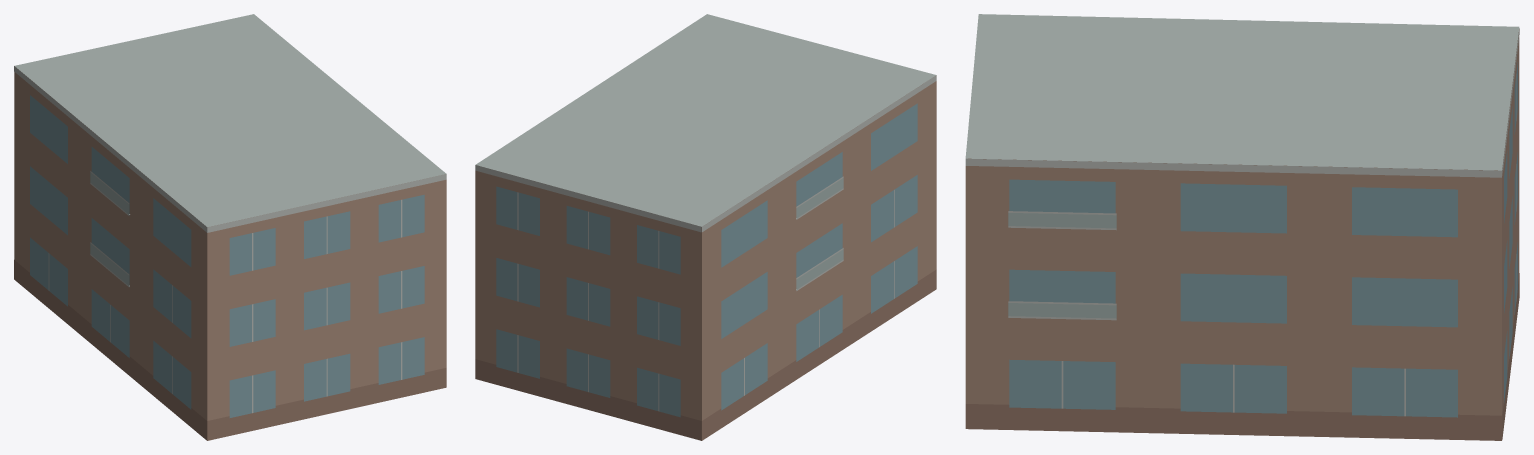
Rendered from survey-upis-32710039.glb.
3 views of the same model, side by side, from view 1: azimuth 30°, elevation 25°; view 2: azimuth 150°, elevation 25°; view 3: azimuth 270°, elevation 25° (orthographic). The views are drawn at different scales.
Parts seen in each view (by area): view 1: survey-upis-32710039.tmp; view 2: survey-upis-32710039.tmp; view 3: survey-upis-32710039.tmp.
Part boxes in pixels (x1,y1,x2,y2): survey-upis-32710039.tmp: [14, 14, 446, 440]; survey-upis-32710039.tmp: [475, 14, 936, 440]; survey-upis-32710039.tmp: [965, 14, 1519, 440].
Bounding box in the file's own units: 11.37 × 9.15 × 17.
